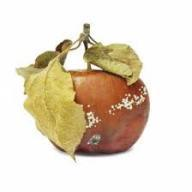apple: (34, 54, 151, 163)
